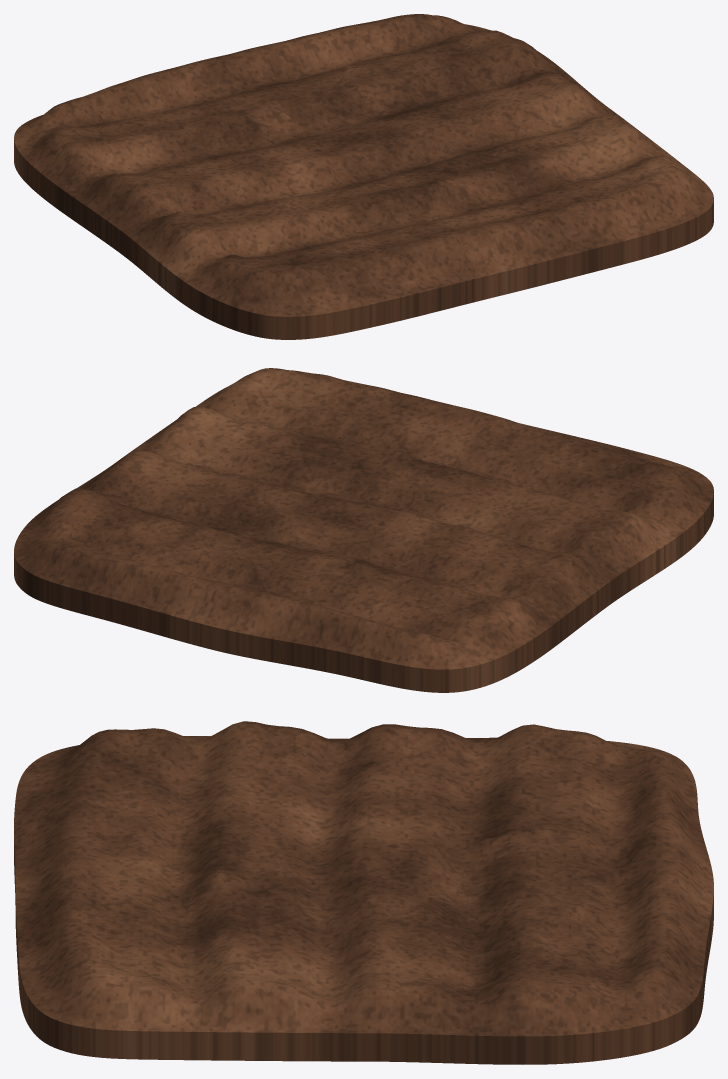
The model's file is farm_plot_tilled.glb.
3 renders of one model, top to bottom at view 1: azimuth 30°, elevation 25°; view 2: azimuth 150°, elevation 25°; view 3: azimuth 270°, elevation 25°, orthographic. The views are drawn at different scales.
Parts seen in each view (by area): view 1: Tilled_Soil_Mesh; view 2: Tilled_Soil_Mesh; view 3: Tilled_Soil_Mesh.
Boxes of the visible parts, left/top/right/bottom form: Tilled_Soil_Mesh: left=14, top=14, right=713, bottom=339; Tilled_Soil_Mesh: left=14, top=368, right=713, bottom=692; Tilled_Soil_Mesh: left=14, top=721, right=713, bottom=1064.
Size of the model in its own units: 2 by 0.1885 by 1.97.
1 material, 1 textured.
